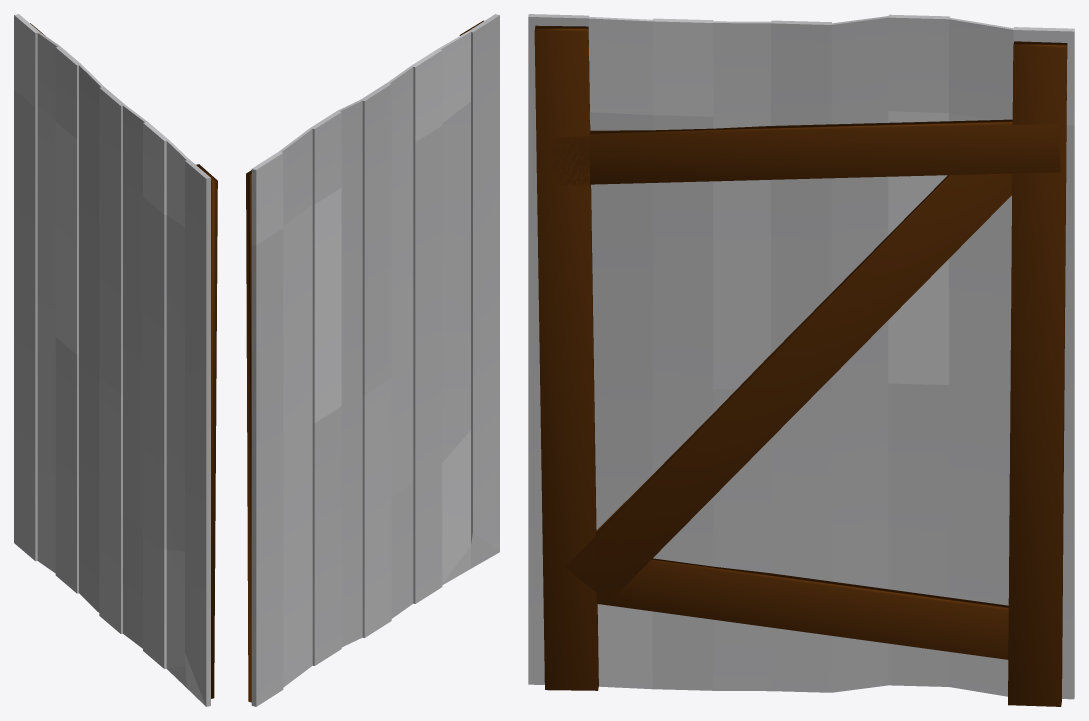
File: Fence 1.fbx
3 views of the same model, side by side, from view 1: azimuth 30°, elevation 25°; view 2: azimuth 150°, elevation 25°; view 3: azimuth 270°, elevation 25° (orthographic). The views are drawn at different scales.
Visible parts, largest first — view 1: Fence.001; view 2: Fence.001; view 3: Fence.001.
Part boxes in pixels (box(x1,y1,x2,y2)): Fence.001: box(14, 14, 217, 706); Fence.001: box(246, 14, 499, 706); Fence.001: box(528, 14, 1074, 706).
Bounding box in the file's own units: 23.18 × 319 × 233.
